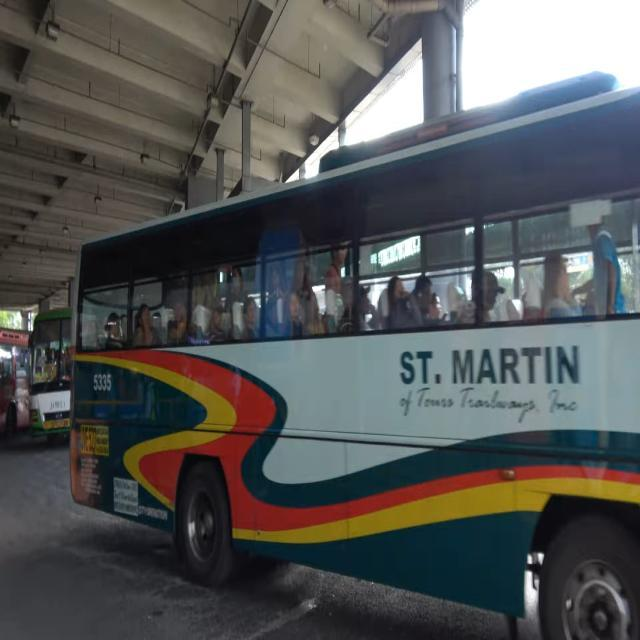bus: (68, 71, 640, 640), (27, 305, 74, 438), (1, 330, 29, 432)
